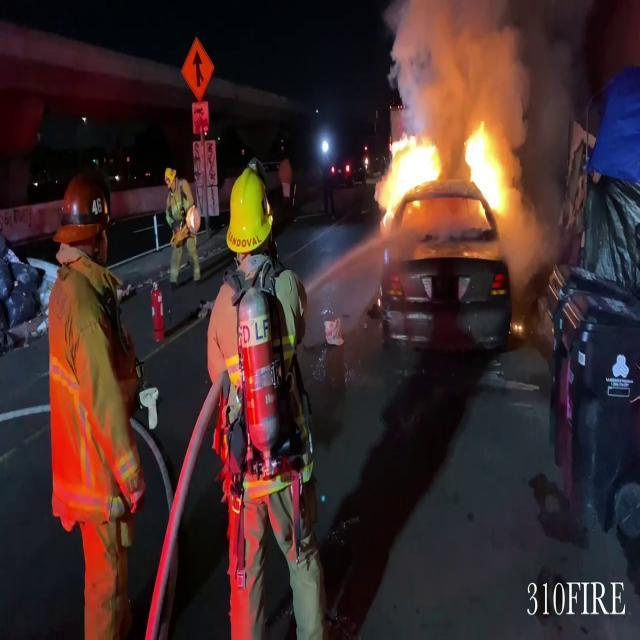Fire: (373, 114, 521, 224), (373, 130, 444, 218), (461, 114, 518, 220)
Smoke: (379, 0, 605, 132)
